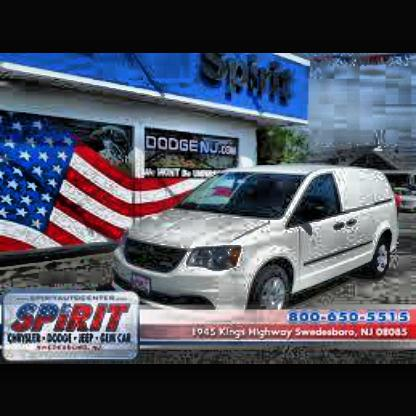Ram C-V Cargo Van Minivan 2012: (112, 167, 401, 316)
